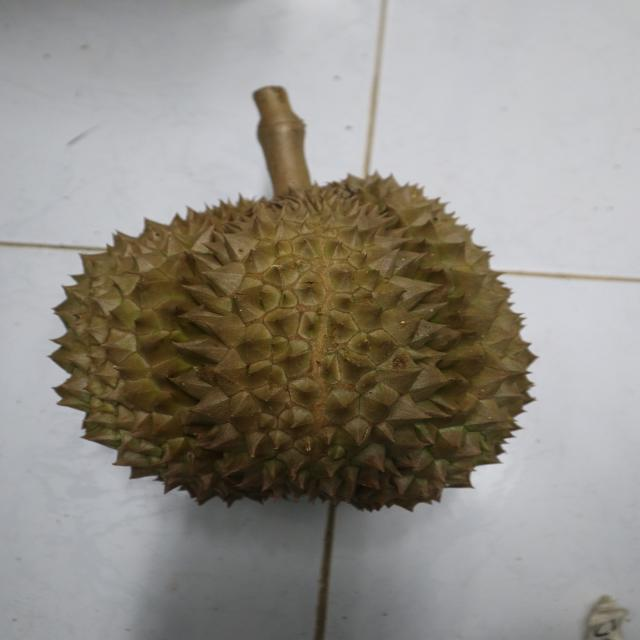mature: (47, 171, 543, 520)
